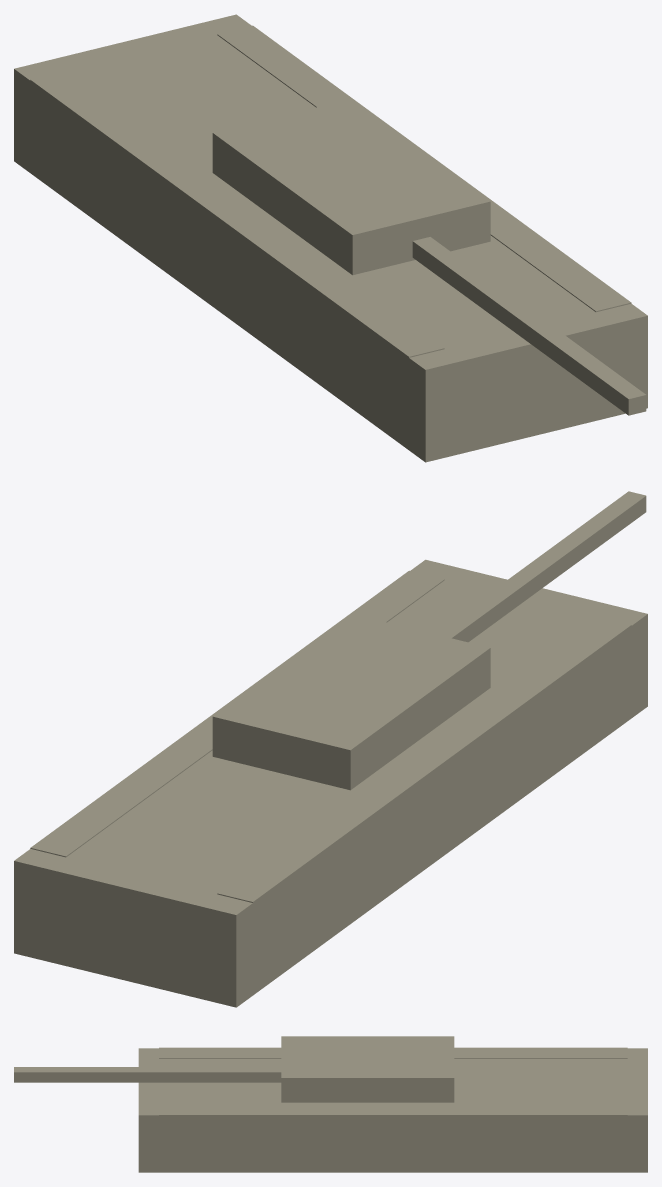
The picture shows the model from 3 angles, top to bottom: view 1: azimuth 30°, elevation 25°; view 2: azimuth 150°, elevation 25°; view 3: azimuth 270°, elevation 25°; orthographic projection. The views are drawn at different scales.
Parts seen in each view (by area): view 1: Hull, Turret, Track_L, Track_R, Gun; view 2: Hull, Track_L, Turret, Track_R, Gun; view 3: Hull, Track_R, Turret, Gun, Track_L.
Boxes of the visible parts, bbox=[...] form: Hull: bbox=[14, 14, 647, 462]; Turret: bbox=[212, 99, 490, 275]; Track_L: bbox=[30, 71, 444, 400]; Track_R: bbox=[217, 25, 631, 312]; Gun: bbox=[412, 237, 646, 415]; Hull: bbox=[14, 559, 647, 1007]; Track_L: bbox=[217, 616, 631, 946]; Turret: bbox=[212, 614, 490, 790]; Track_R: bbox=[30, 570, 444, 857]; Gun: bbox=[434, 491, 646, 642]; Hull: bbox=[138, 1048, 647, 1172]; Track_R: bbox=[159, 1104, 627, 1142]; Turret: bbox=[281, 1036, 454, 1102]; Gun: bbox=[14, 1067, 281, 1082]; Track_L: bbox=[159, 1047, 627, 1058].
Bounding box in the file's own units: 3.09 × 1.76 × 12.33.
